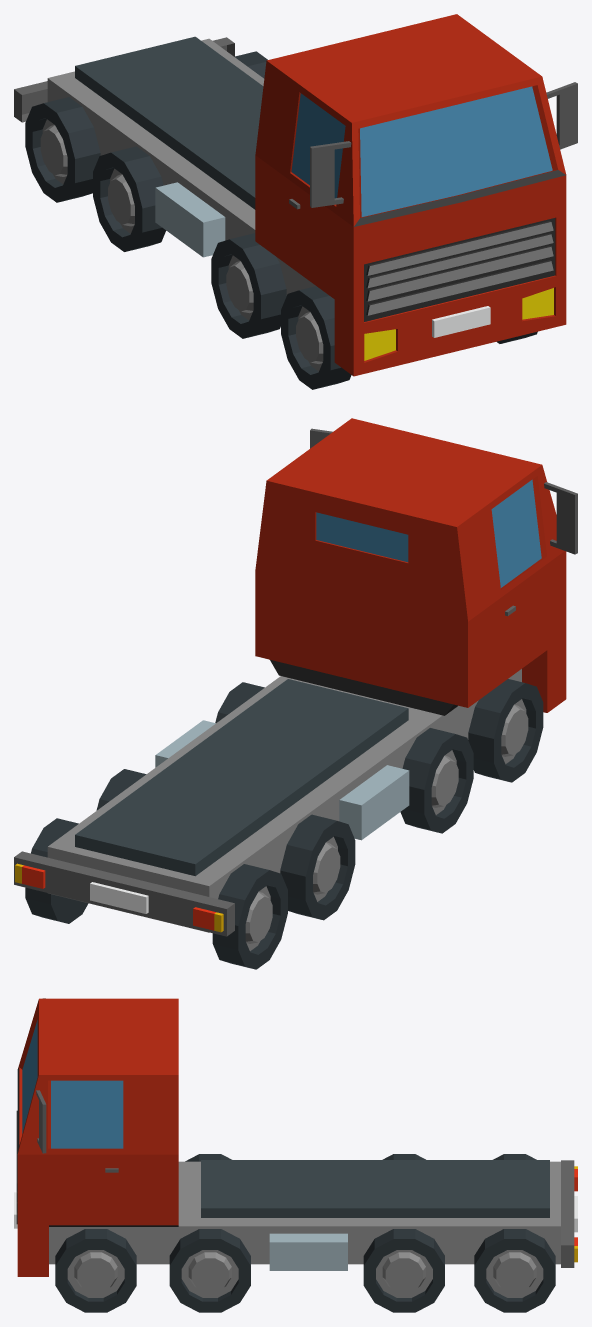
Rendered from Red-car.glb.
3 renders of one model, top to bottom at view 1: azimuth 30°, elevation 25°; view 2: azimuth 150°, elevation 25°; view 3: azimuth 270°, elevation 25°, orthographic. The views are drawn at different scales.
Parts seen in each view (by area): view 1: Base Truck.001; view 2: Base Truck.001; view 3: Base Truck.001.
Part boxes in pixels (x1=…): Base Truck.001: x1=14, y1=14, x2=577, y2=389; Base Truck.001: x1=14, y1=418, x2=577, y2=969; Base Truck.001: x1=14, y1=998, x2=577, y2=1312.
Size of the model in its own units: 3.13 by 3.2 by 7.
1 material, 1 textured.
